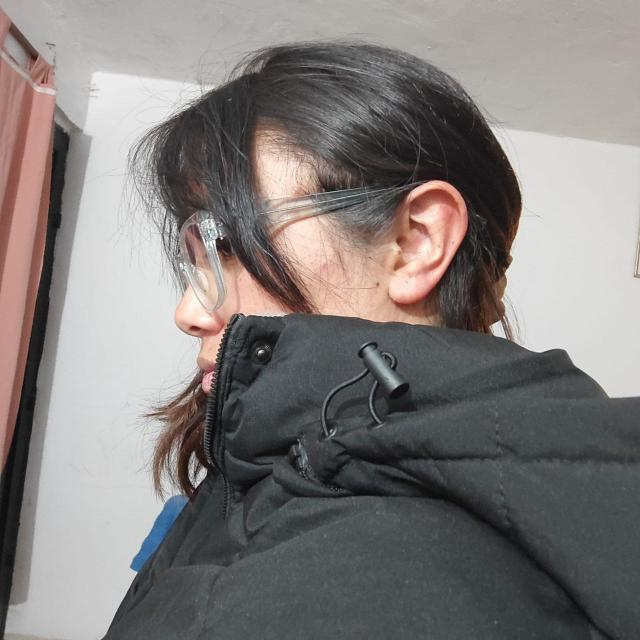ear: (385, 180, 468, 313)
